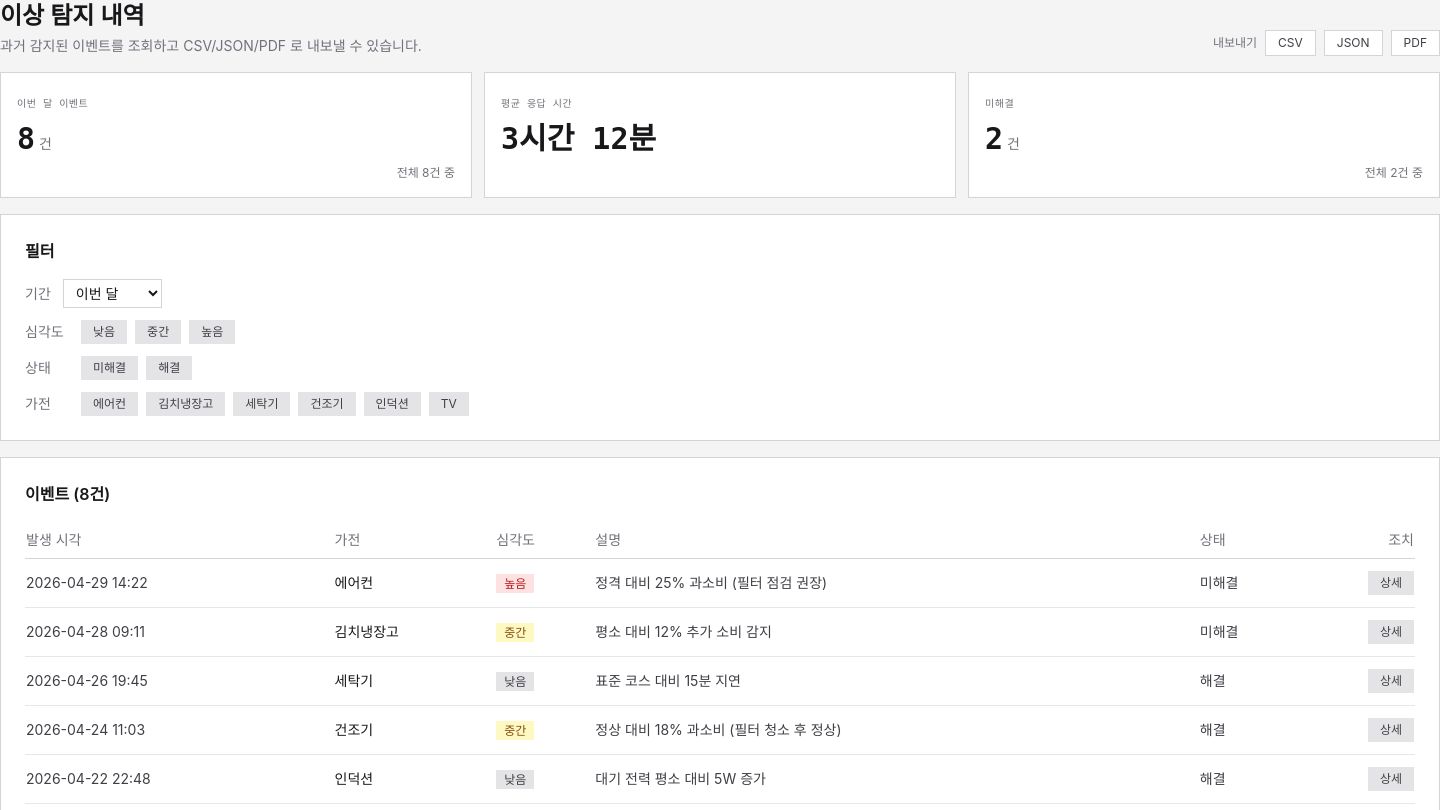
Test case: AnomalyLogPage › severity '높음' pill toggles client-side filter (2 rows)
This screenshot has width=1440, height=810.
Check: the heading "이벤트 (8건)" is shown, box [25,484,110,504]
Click the button "높음": (212, 332) [189,320,235,344]
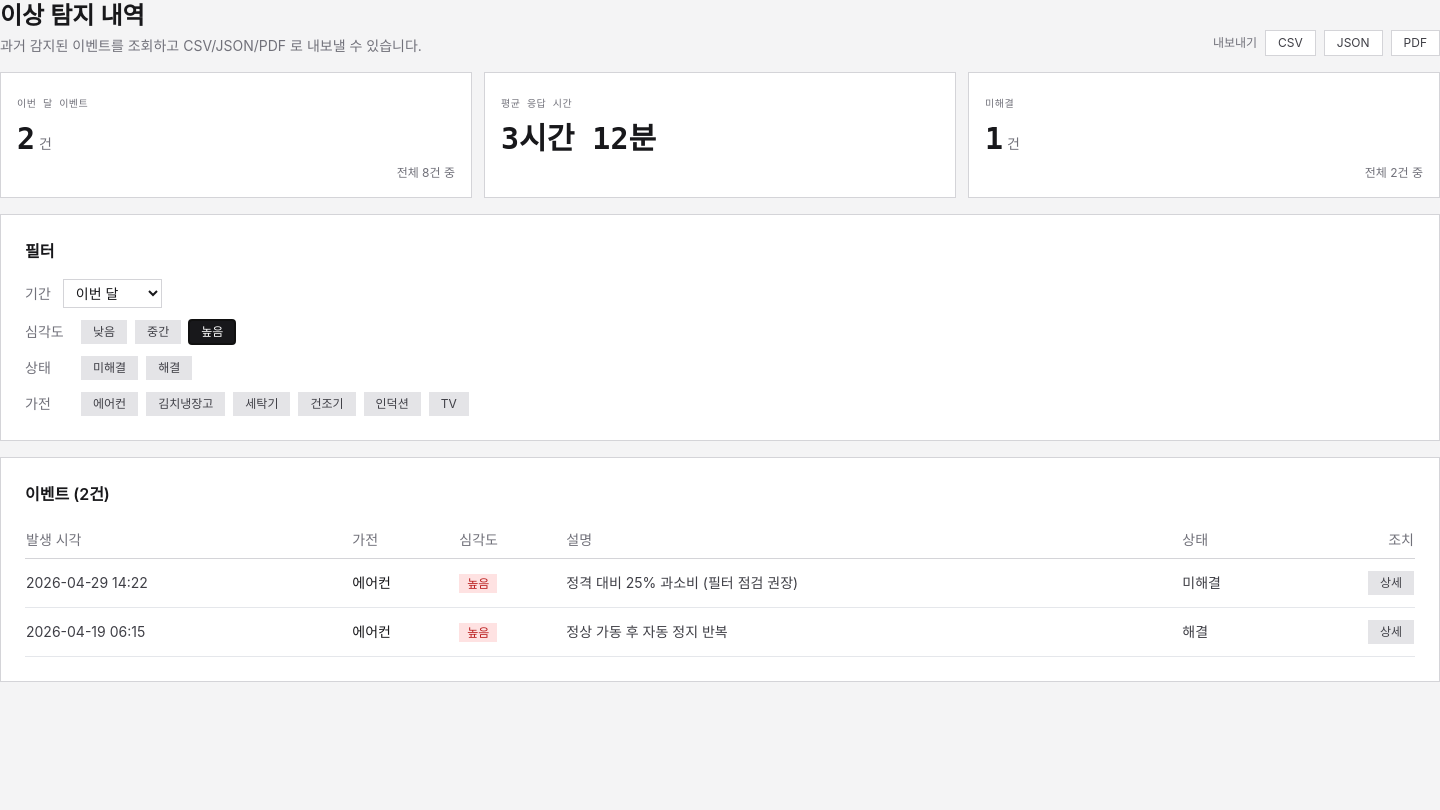
Check: the heading "이벤트 (2건)" is shown, box [25,484,110,504]
